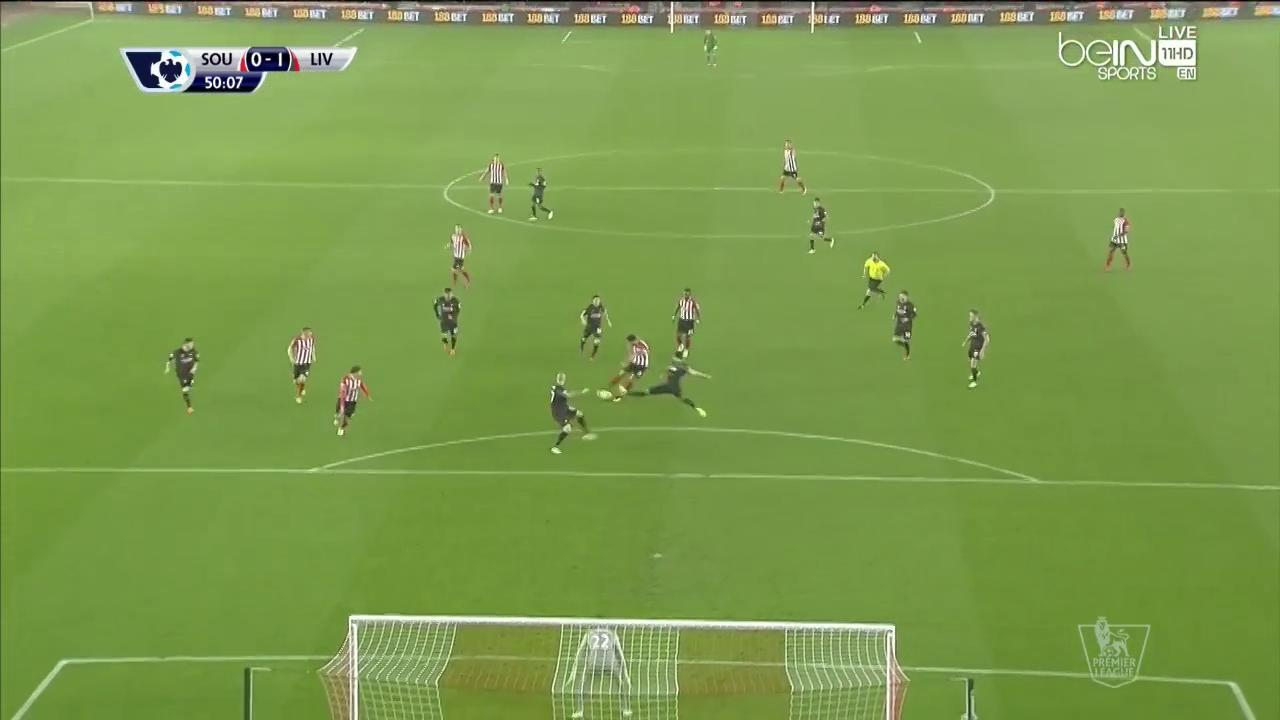football: (595, 386, 614, 401)
